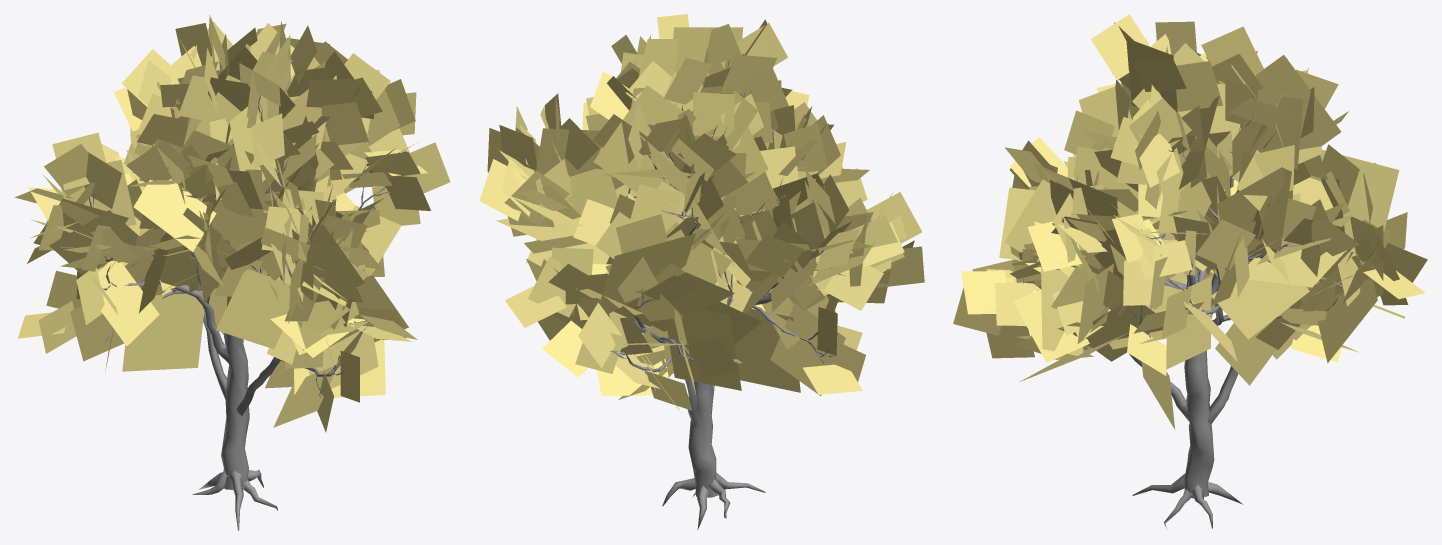
File: deadtree_03_LOD1.FBX
3 renders of one model, left to right at view 1: azimuth 30°, elevation 25°; view 2: azimuth 150°, elevation 25°; view 3: azimuth 270°, elevation 25°, orthographic. The views are drawn at different scales.
Parts seen in each view (by area): view 1: DeadTree_03_LOD1; view 2: DeadTree_03_LOD1; view 3: DeadTree_03_LOD1.
Part boxes in pixels (<box>): DeadTree_03_LOD1: <box>14,14,450,530</box>; DeadTree_03_LOD1: <box>479,14,924,529</box>; DeadTree_03_LOD1: <box>953,14,1427,528</box>.
Size of the model in its own units: 20.86 by 23.63 by 20.8.
